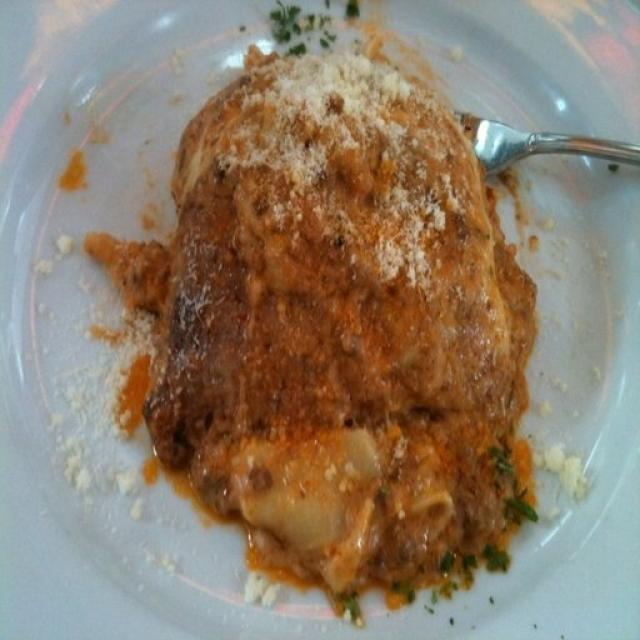Lasagna: (115, 45, 534, 561)
